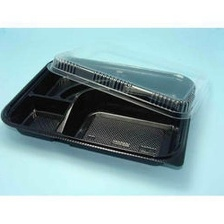plastic_box: (0, 39, 218, 176)
